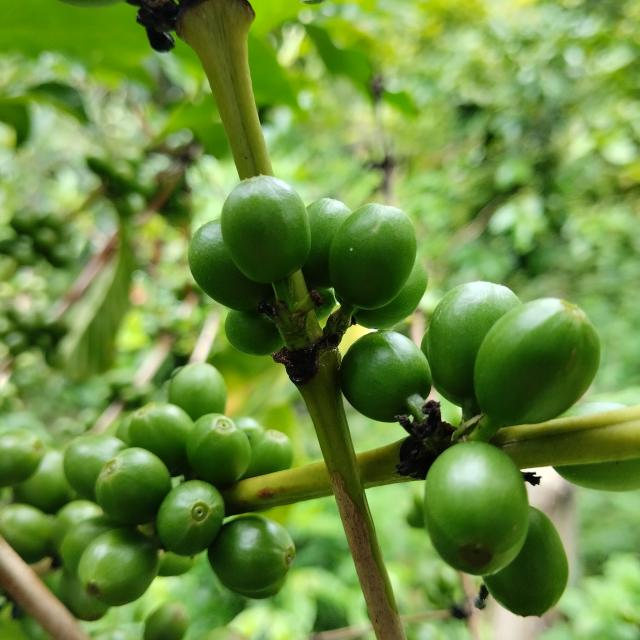green: (475, 298, 602, 426), (425, 442, 530, 577), (427, 281, 522, 407), (221, 174, 311, 283), (484, 507, 570, 618), (329, 203, 417, 309), (339, 330, 432, 423), (188, 220, 273, 311), (208, 516, 295, 592), (77, 528, 158, 607), (94, 448, 171, 526), (355, 258, 429, 329), (156, 481, 225, 557), (128, 402, 194, 477), (186, 414, 251, 487), (302, 198, 351, 290), (62, 435, 127, 501), (168, 363, 227, 421), (224, 310, 284, 356)
